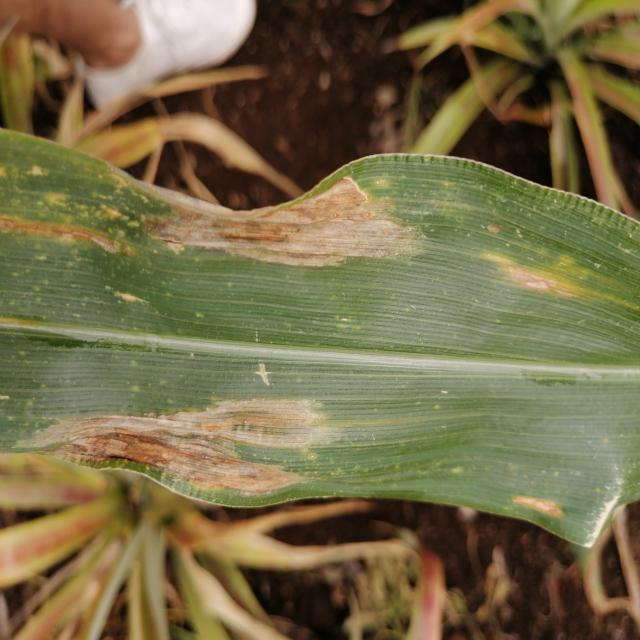Corn_Leaf_Blight: (0, 121, 640, 543)
